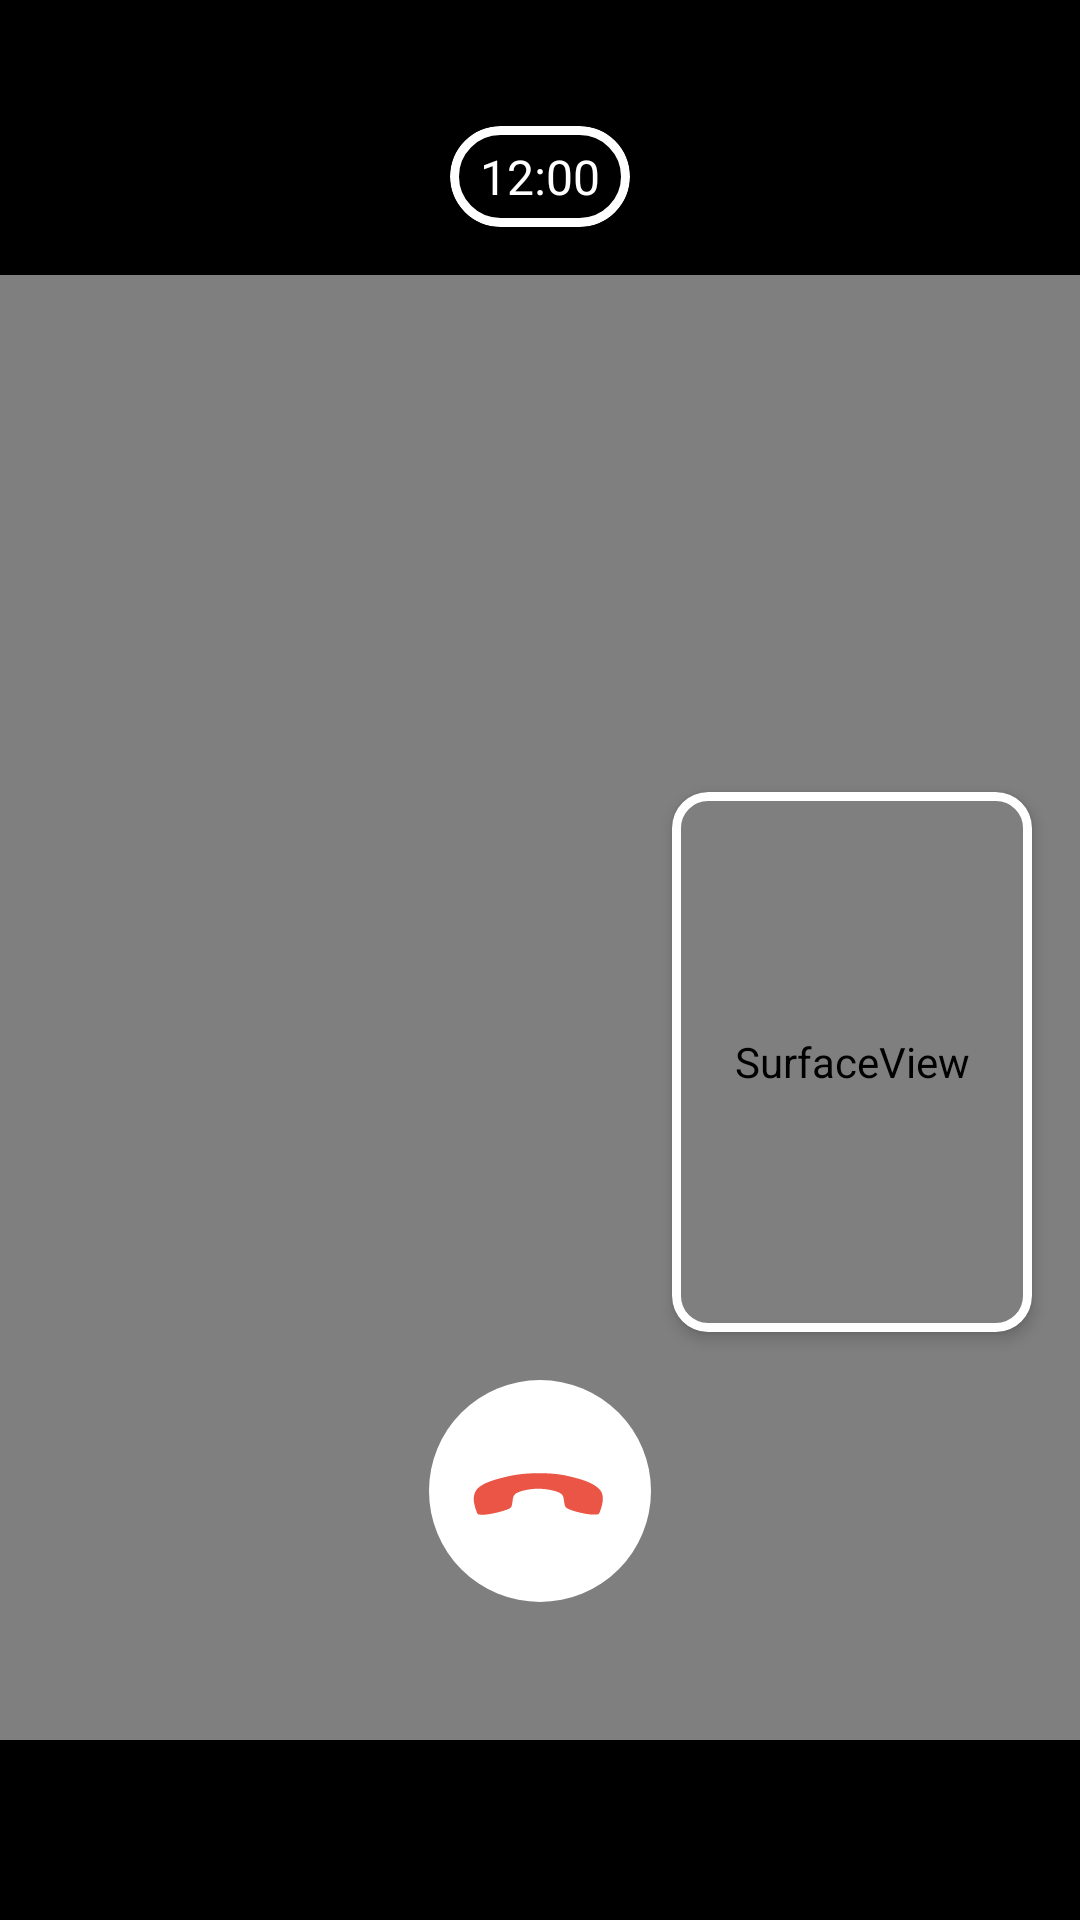

Named icons in this screenshot (1080px x 1920px) and their bounding boxes, (x1, y1, x2, y2):
decline: (429, 1380, 651, 1602)
